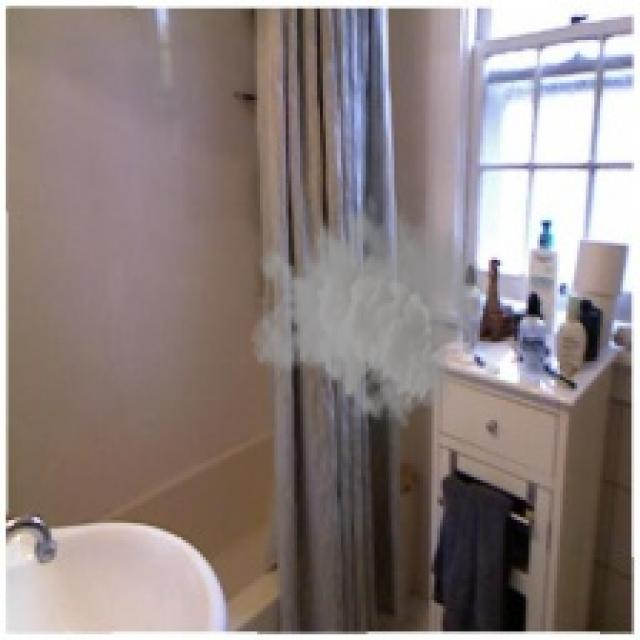smoke: (248, 186, 486, 431)
